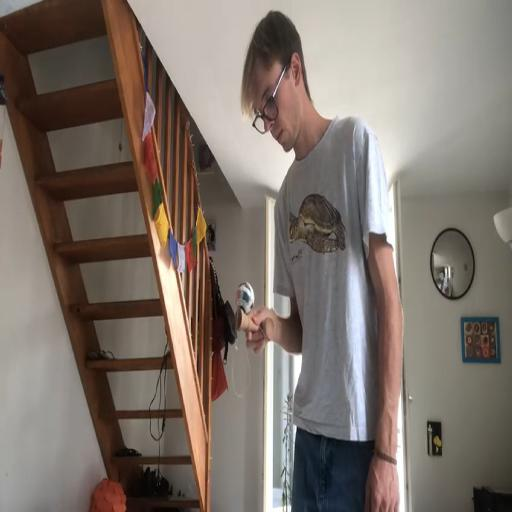kendama_ball: (235, 282, 255, 316)
